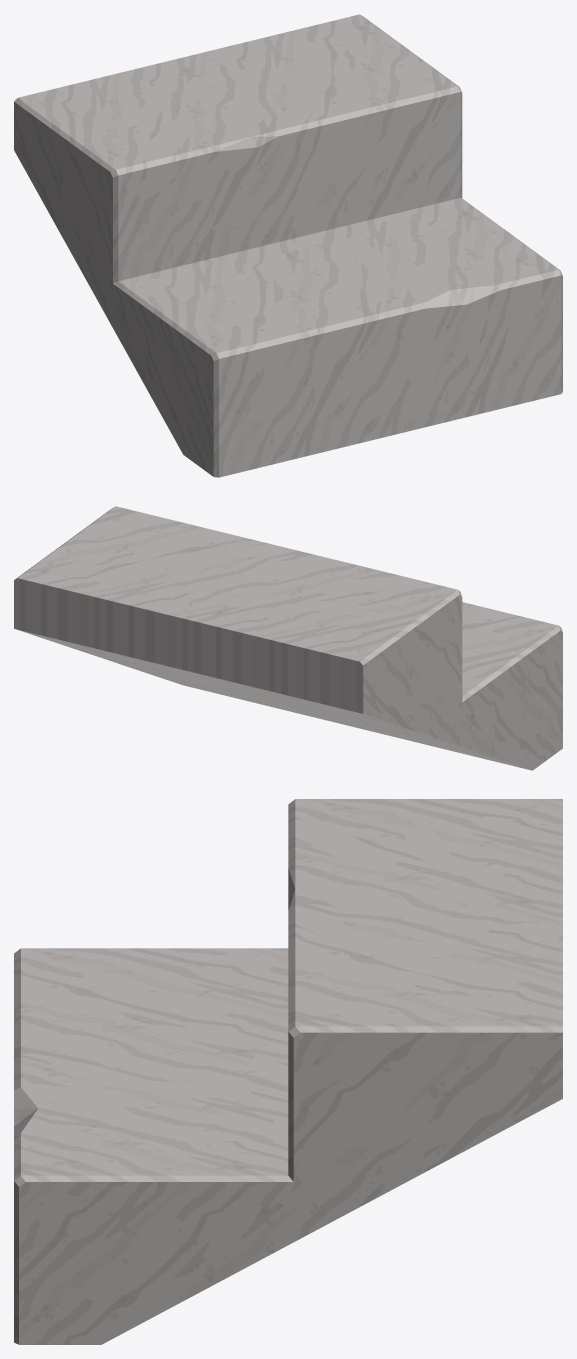
File: SM_Bld_Step_02.fbx
3 renders of one model, top to bottom at view 1: azimuth 30°, elevation 25°; view 2: azimuth 150°, elevation 25°; view 3: azimuth 270°, elevation 25°, orthographic. The views are drawn at different scales.
Parts seen in each view (by area): view 1: SM_Bld_Step_02; view 2: SM_Bld_Step_02; view 3: SM_Bld_Step_02.
Part boxes in pixels (box(x1,y1,x2,y2)): SM_Bld_Step_02: box(14, 14, 562, 477); SM_Bld_Step_02: box(14, 506, 562, 770); SM_Bld_Step_02: box(14, 799, 562, 1344).
Size of the model in its own units: 250 by 159 by 250.
